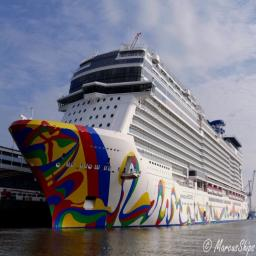cruises: (10, 40, 254, 230)
